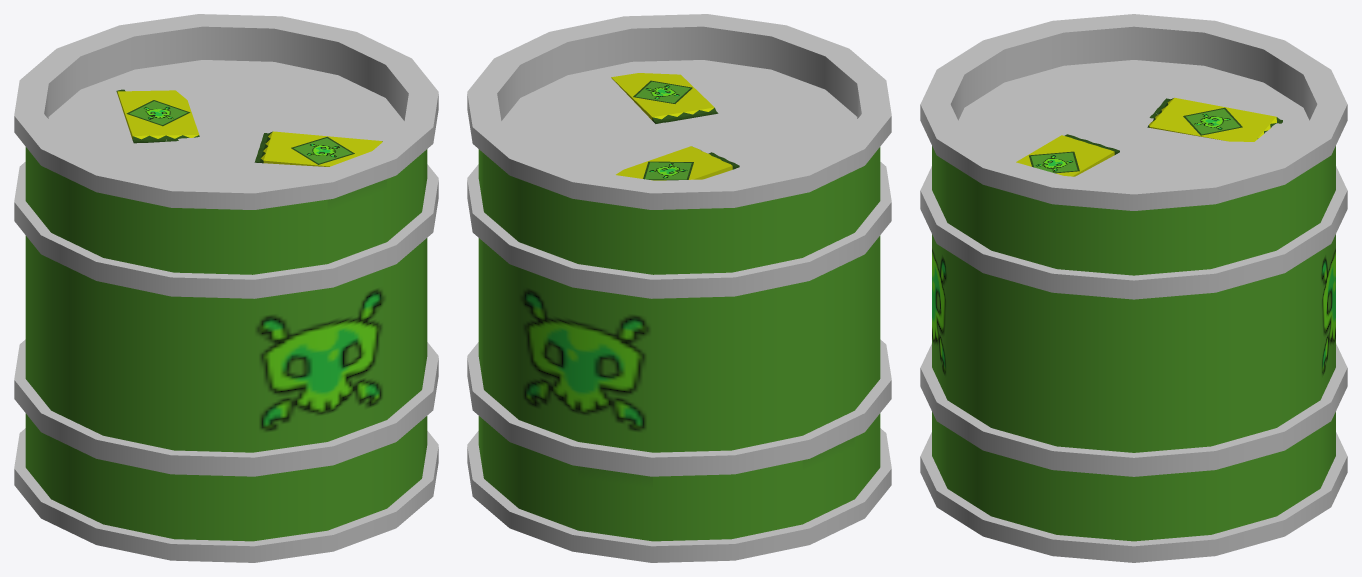
Rendered from Evelmart_Shelf_Alt_Poison.fbx.
3 views of the same model, side by side, from view 1: azimuth 30°, elevation 25°; view 2: azimuth 150°, elevation 25°; view 3: azimuth 270°, elevation 25° (orthographic).
Visible parts, largest first — view 1: Poison.001; view 2: Poison.001; view 3: Poison.001.
Part boxes in pixels (bbox=[...]): Poison.001: bbox=[14, 14, 438, 562]; Poison.001: bbox=[467, 14, 891, 562]; Poison.001: bbox=[920, 14, 1347, 562].
Size of the model in its own units: 200 by 190 by 200.
